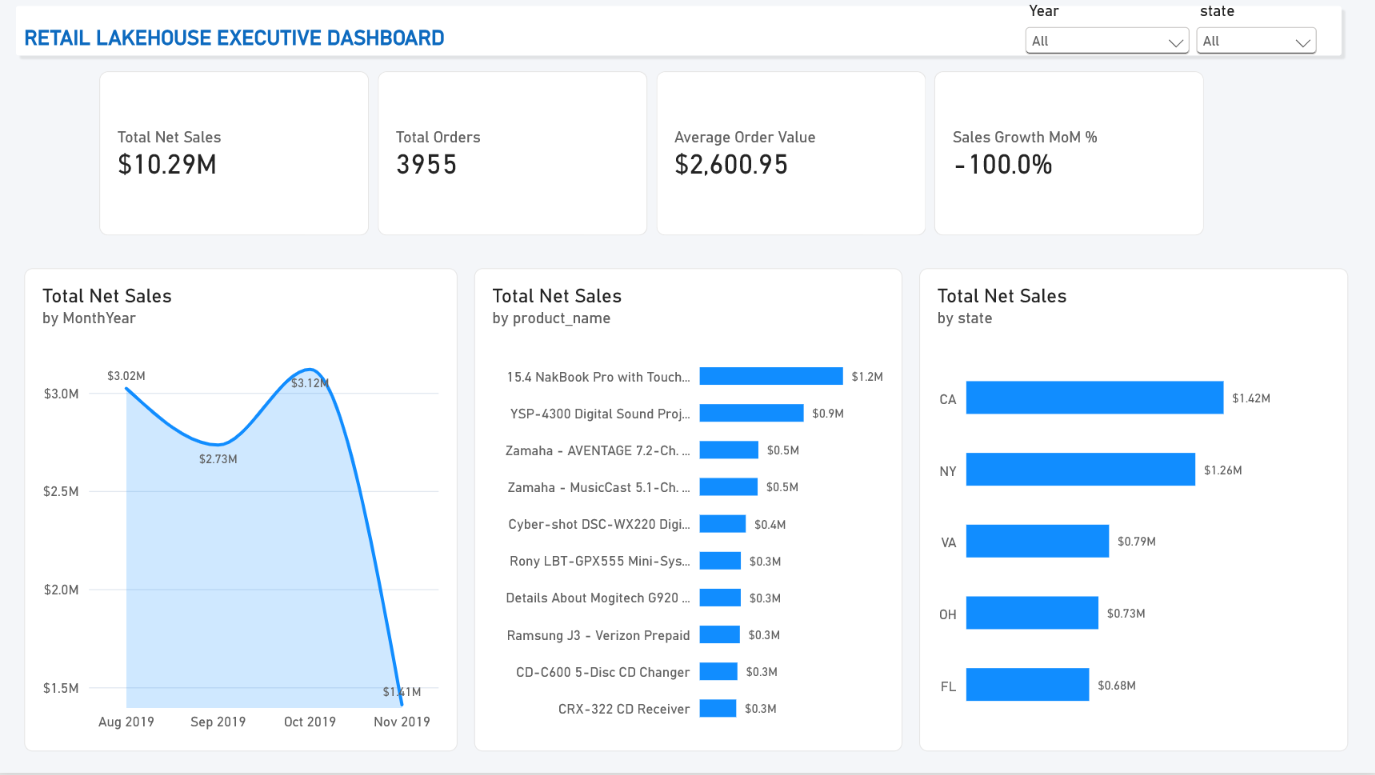

This screenshot's page, from the dashboard's own definition file:
{"tool":"powerbi","page":{"name":"Page 1","canvas":[1280,720],"ordinal":0},"visuals":[{"type":"shape","box":[9.3,0,1245.8,58.6],"z":0},{"type":"textbox","box":[23.3,25.1,1220.6,33.5],"z":1000},{"type":"slicer","fields":{"Values":["dim_date.Year"]},"box":[949.9,1.9,162.8,56.8],"z":2000},{"type":"slicer","fields":{"Values":["dim_customer.state"]},"box":[1109,1.9,121.9,56.8],"z":3000},{"type":"cardVisual","fields":{"Data":["_Measures.Total Net Sales","_Measures.Total Orders","_Measures.Average Order Value","_Measures.Sales Growth MoM %"]},"box":[93,67,1029,153.5],"z":4000},{"type":"areaChart","fields":{"Category":["dim_date.MonthYear"],"Y":["_Measures.Total Net Sales"]},"box":[23.3,250.3,402.9,449.4],"z":5000},{"type":"clusteredBarChart","fields":{"Category":["dim_product.product_name"],"Y":["_Measures.Total Net Sales"]},"box":[441.9,250.3,398.2,449.4],"z":6000},{"type":"clusteredBarChart","fields":{"Category":["dim_customer.state"],"Y":["_Measures.Total Net Sales"]},"box":[855.9,250.3,399.1,449.4],"z":7000}]}

Visuals, with their boxes in screenshot pixels (x1, y1, x2, y2), scaled from the page's 1280x720 canvas onto the 1375x775 screenshot:
shape: <bbox>10, 0, 1348, 63</bbox>
textbox: <bbox>25, 27, 1336, 63</bbox>
slicer - dim_date.Year: <bbox>1020, 2, 1195, 63</bbox>
slicer - dim_customer.state: <bbox>1191, 2, 1322, 63</bbox>
cardVisual - _Measures.Total Net Sales x _Measures.Total Orders: <bbox>100, 72, 1205, 237</bbox>
areaChart - dim_date.MonthYear x _Measures.Total Net Sales: <bbox>25, 269, 458, 753</bbox>
clusteredBarChart - dim_product.product_name x _Measures.Total Net Sales: <bbox>475, 269, 902, 753</bbox>
clusteredBarChart - dim_customer.state x _Measures.Total Net Sales: <bbox>919, 269, 1348, 753</bbox>
